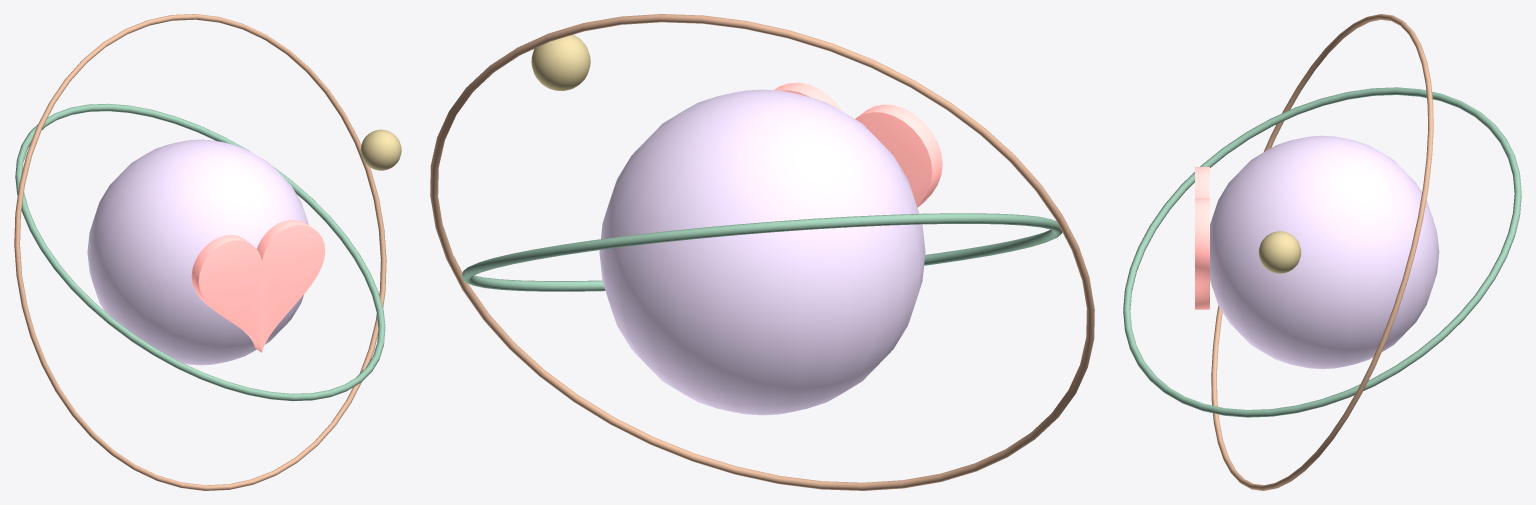
File: intelligence.glb
3 renders of one model, left to right at view 1: azimuth 30°, elevation 25°; view 2: azimuth 150°, elevation 25°; view 3: azimuth 270°, elevation 25°, orthographic. The views are drawn at different scales.
Parts seen in each view (by area): view 1: Intelligence_Core, Intelligence_Heart, Intelligence_Orbit_B, Intelligence_Orbit_A, Intelligence_Satellite; view 2: Intelligence_Core, Intelligence_Orbit_B, Intelligence_Orbit_A, Intelligence_Heart, Intelligence_Satellite; view 3: Intelligence_Core, Intelligence_Orbit_A, Intelligence_Orbit_B, Intelligence_Heart, Intelligence_Satellite.
Part boxes in pixels (x1,y1,x2,y2): Intelligence_Core: (87,139,308,365); Intelligence_Heart: (191,219,325,352); Intelligence_Orbit_B: (14,14,386,490); Intelligence_Orbit_A: (15,103,385,401); Intelligence_Satellite: (360,129,401,170); Intelligence_Core: (599,89,925,415); Intelligence_Orbit_B: (430,14,1094,490); Intelligence_Orbit_A: (462,213,1062,291); Intelligence_Heart: (774,82,942,207); Intelligence_Satellite: (531,34,590,90); Intelligence_Core: (1210,135,1439,369); Intelligence_Orbit_A: (1123,87,1521,417); Intelligence_Orbit_B: (1211,14,1433,490); Intelligence_Heart: (1195,167,1209,309); Intelligence_Satellite: (1258,231,1301,273).
Bounding box in the file's own units: 2.27 × 2.14 × 1.88.
